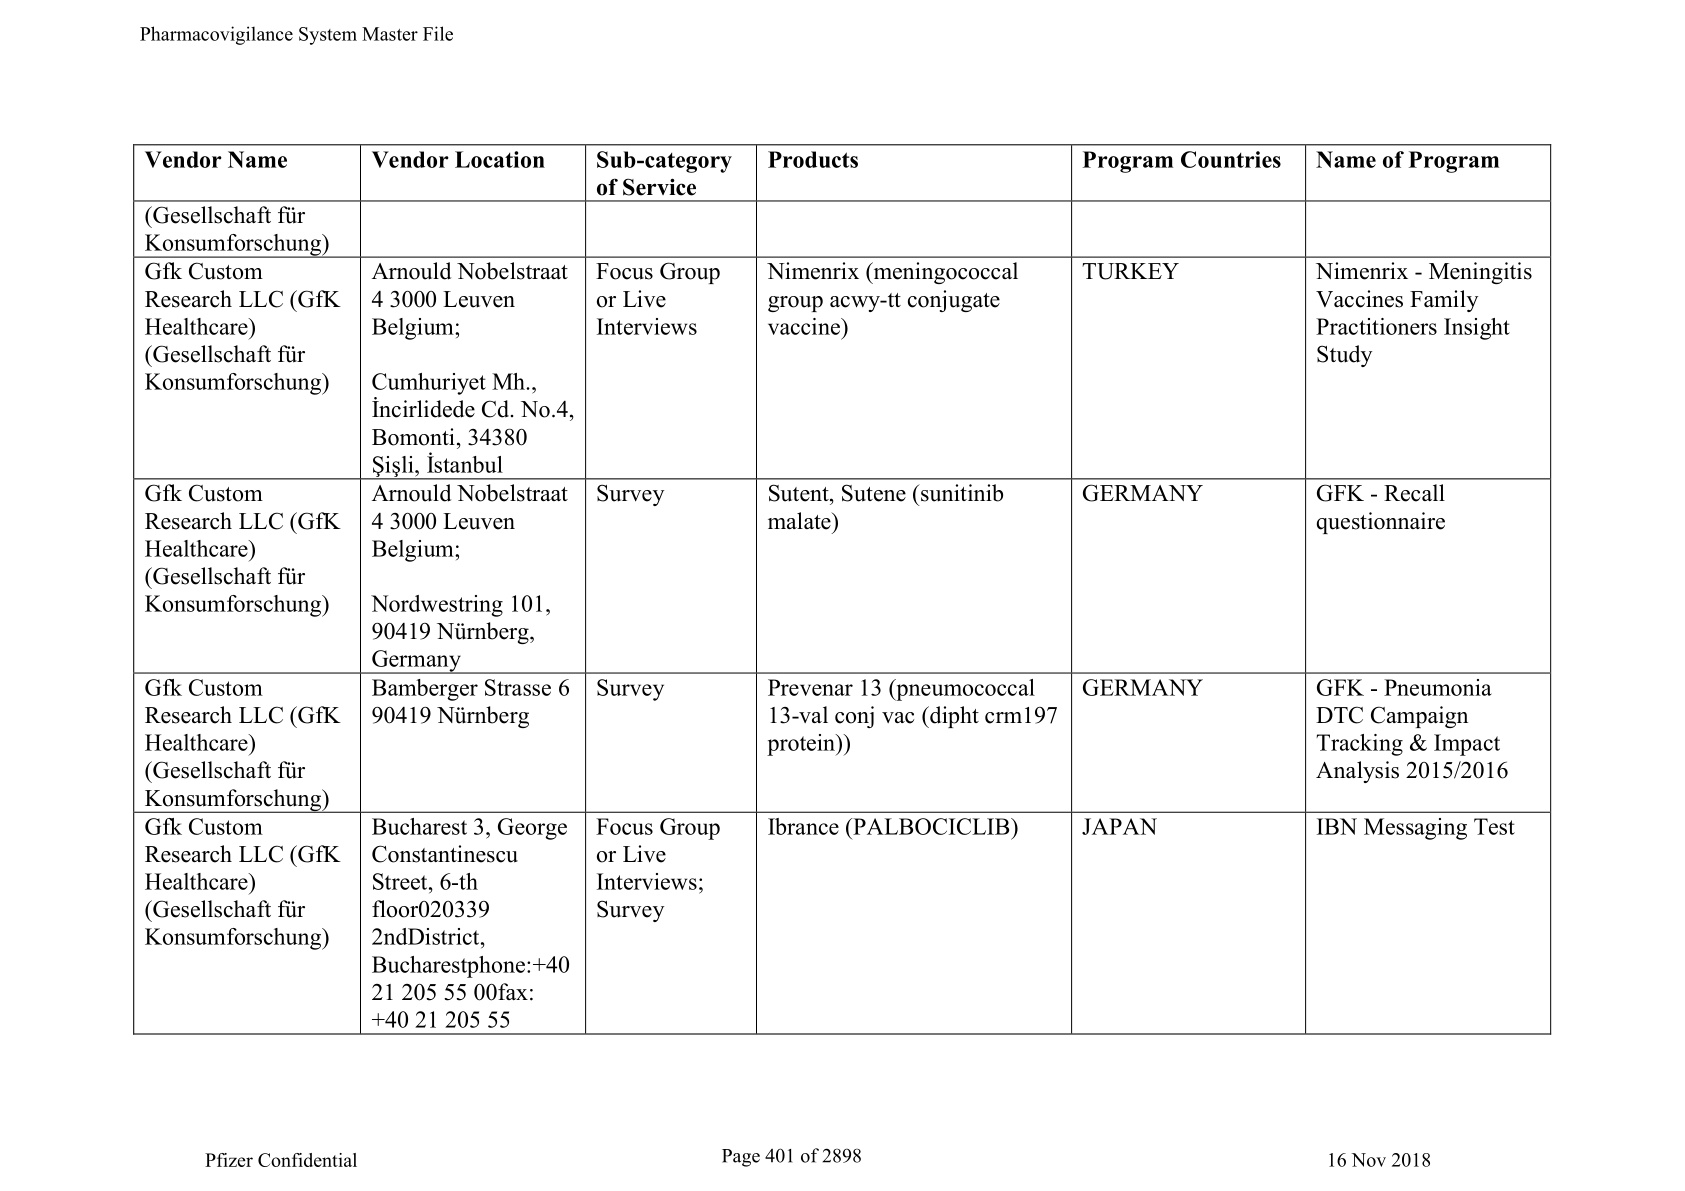full_lined: (133, 143, 1552, 1035)
